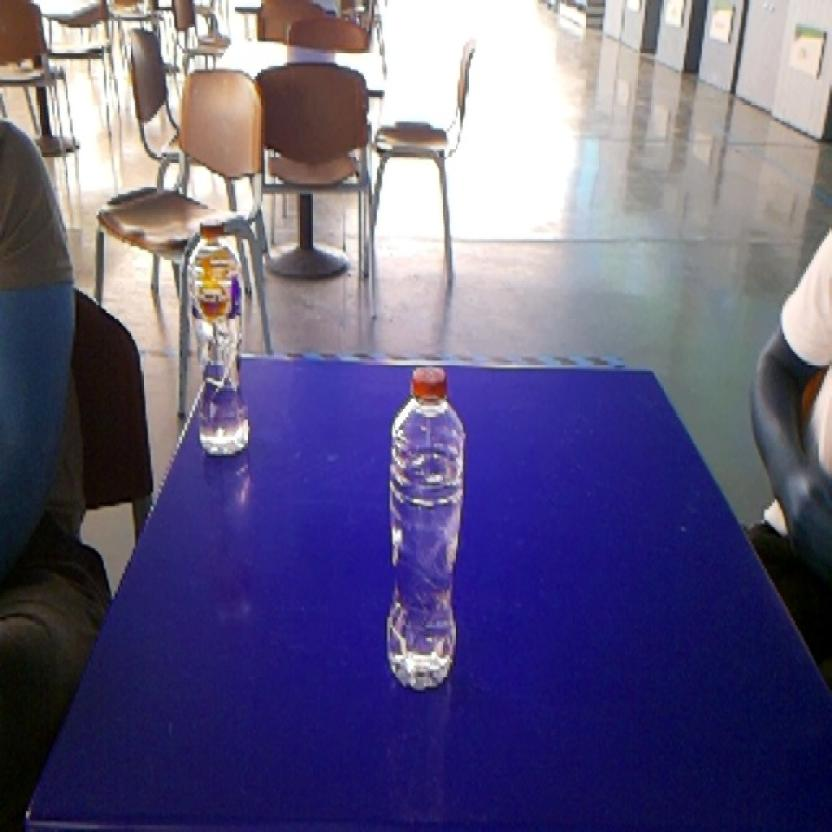good: (177, 213, 257, 468)
no_label: (376, 360, 473, 698)
